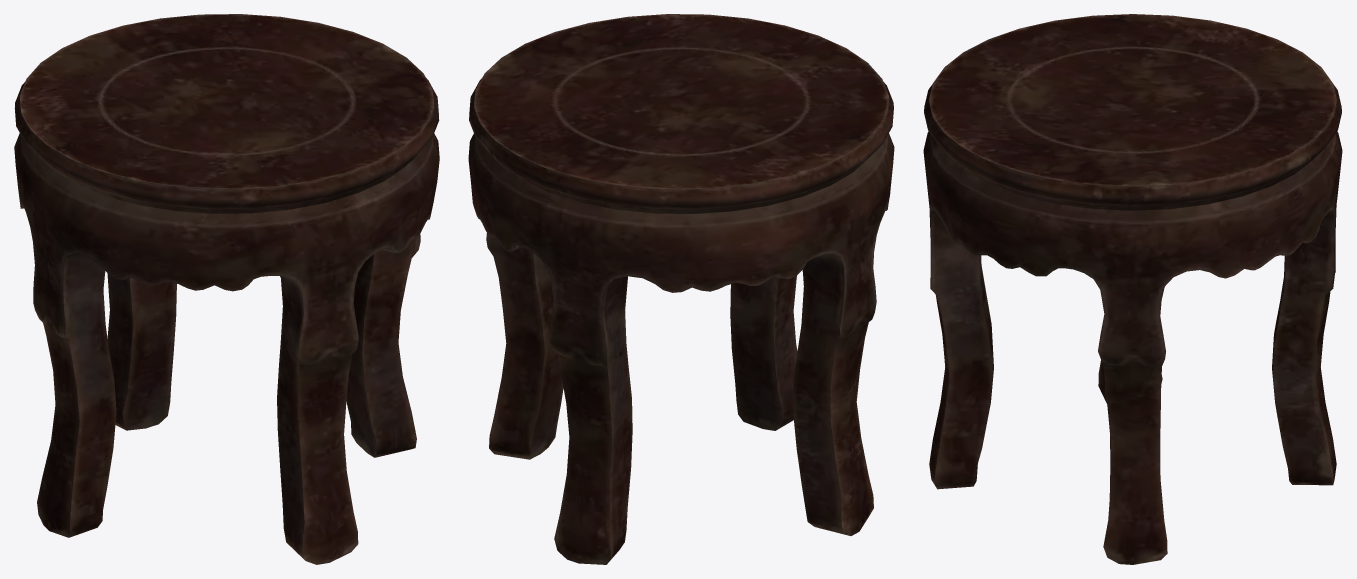
Rendered from ph-woodentable-02.glb.
3 renders of one model, left to right at view 1: azimuth 30°, elevation 25°; view 2: azimuth 150°, elevation 25°; view 3: azimuth 270°, elevation 25°, orthographic.
Parts seen in each view (by area): view 1: WoodenTable_02; view 2: WoodenTable_02; view 3: WoodenTable_02.
Boxes of the visible parts, <box> form: WoodenTable_02: <box>14,14,439,564</box>; WoodenTable_02: <box>468,14,894,564</box>; WoodenTable_02: <box>923,14,1342,564</box>.
Size of the model in its own units: 1 by 1 by 1.
1 material, 1 textured.
